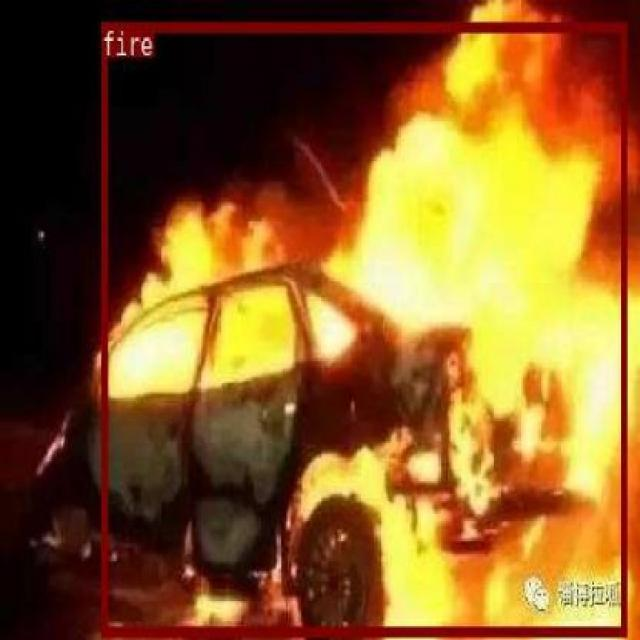Fire: (100, 22, 626, 636)
